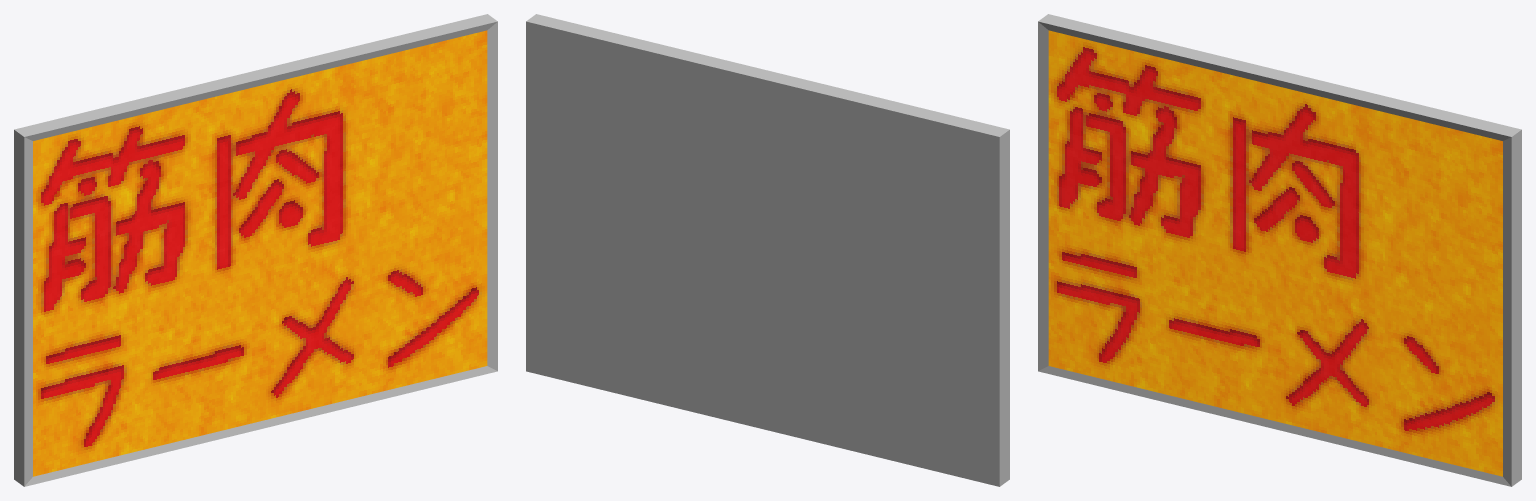
Rendered from sign.glb.
The picture shows the model from 3 angles, left to right: view 1: azimuth 30°, elevation 25°; view 2: azimuth 150°, elevation 25°; view 3: azimuth 330°, elevation 25°; orthographic projection.
Visible parts, largest first — view 1: sign, sign.border; view 2: sign.border; view 3: sign, sign.border.
Part boxes in pixels (x1,y1,x2,y2): sign: [33, 30, 487, 476]; sign.border: [14, 14, 497, 486]; sign.border: [526, 14, 1009, 486]; sign: [1048, 30, 1502, 476]; sign.border: [1038, 14, 1521, 486].
Size of the model in its own units: 1.48 by 1.04 by 0.0554.
Materials: 2 (1 with a texture image).
